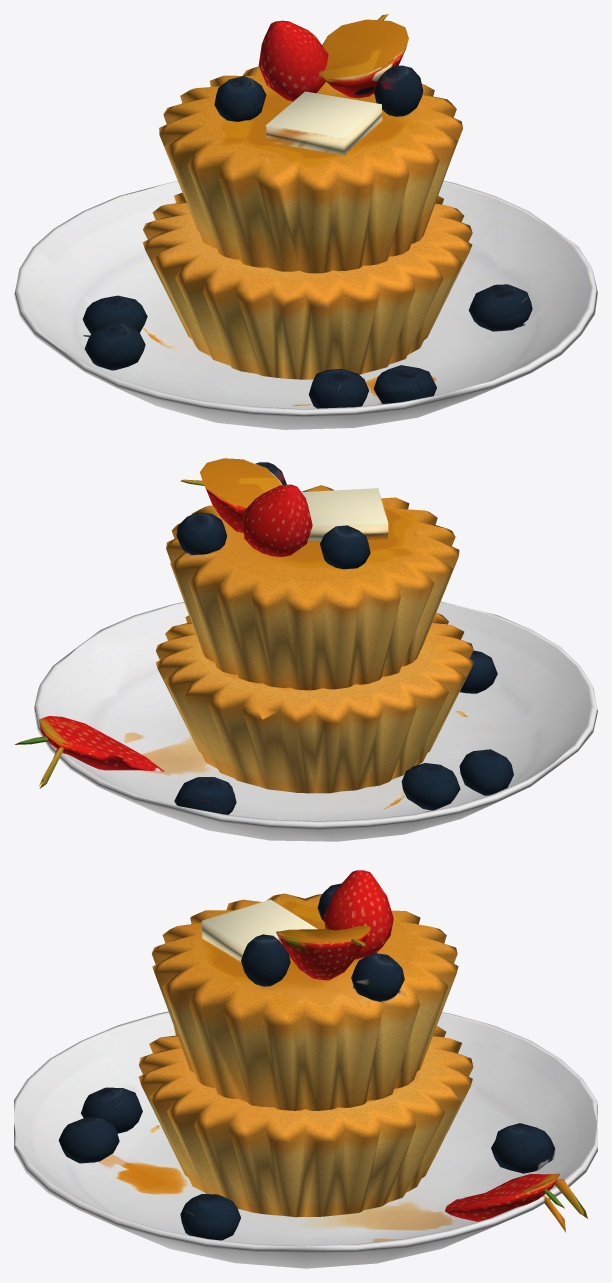
The model's file is food_pancakes.glb.
3 renders of one model, top to bottom at view 1: azimuth 30°, elevation 25°; view 2: azimuth 150°, elevation 25°; view 3: azimuth 270°, elevation 25°, orthographic. The views are drawn at different scales.
Size of the model in its own units: 1 by 0.5914 by 1.
1 material, 1 textured.
